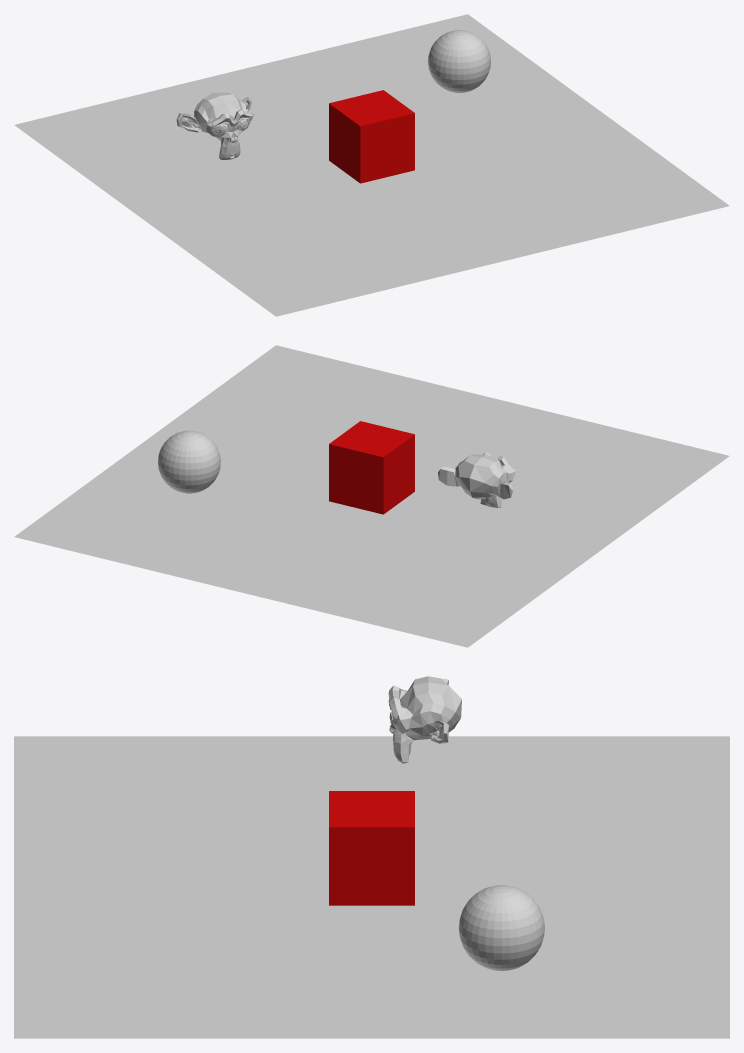
The picture shows the model from 3 angles, top to bottom: view 1: azimuth 30°, elevation 25°; view 2: azimuth 150°, elevation 25°; view 3: azimuth 270°, elevation 25°; orthographic projection. The views are drawn at different scales.
Parts seen in each view (by area): view 1: Plane; view 2: Plane; view 3: Plane.
Boxes of the visible parts, bbox=[...] form: Plane: bbox=[14, 14, 729, 316]; Plane: bbox=[14, 345, 729, 647]; Plane: bbox=[14, 676, 729, 1038].
Size of the model in its own units: 16.61 by 16.61 by 3.02.
